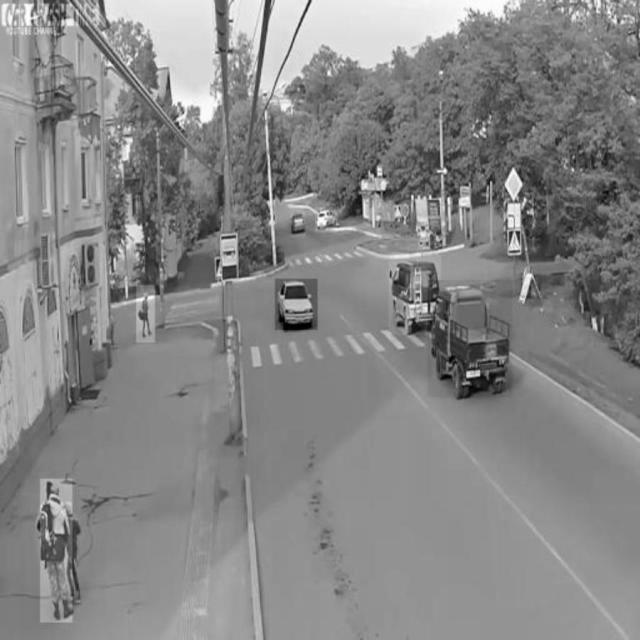person: (40, 479, 72, 623), (137, 286, 155, 343)
vehicle: (428, 280, 512, 398), (390, 255, 442, 335), (276, 279, 318, 330), (316, 207, 338, 232), (289, 208, 305, 238)
